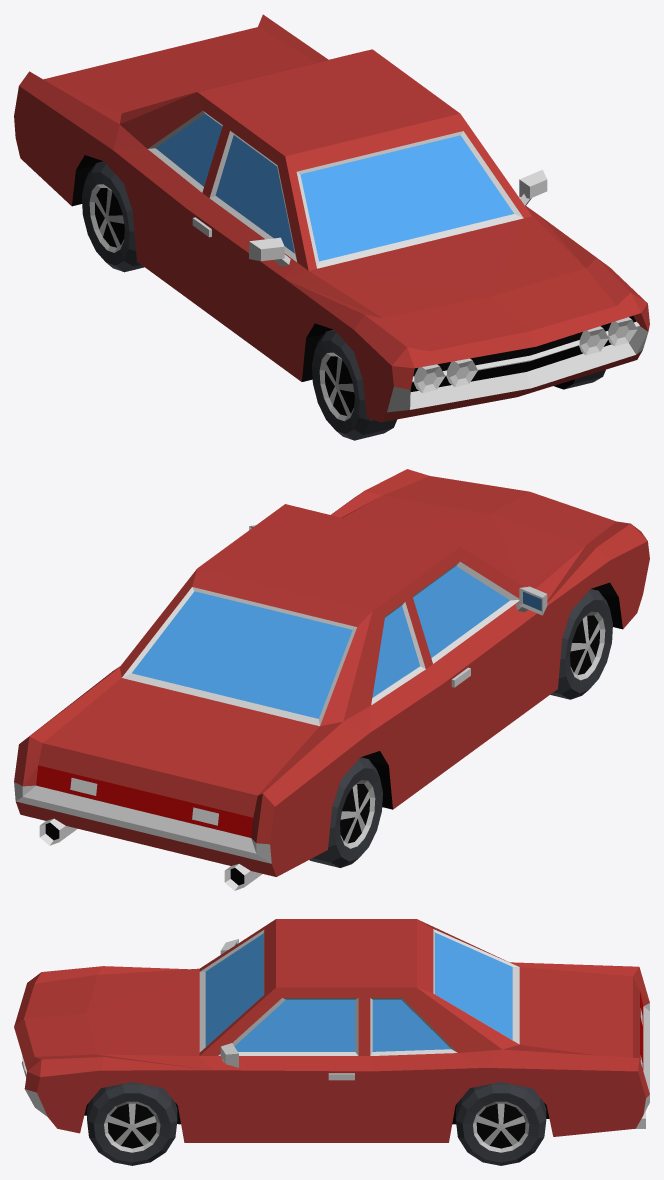
Rendered from Muscle_Coupe.fbx.
3 views of the same model, one above another, from view 1: azimuth 30°, elevation 25°; view 2: azimuth 150°, elevation 25°; view 3: azimuth 270°, elevation 25° (orthographic). The views are drawn at different scales.
Visible parts, largest first — view 1: Bodywork, Wheel Front Right, Wheel Rear Right; view 2: Bodywork, Wheel Rear Right, Wheel Front Right; view 3: Bodywork, Wheel Front Left, Wheel Rear Left.
Part boxes in pixels (<box>): Bodywork: <box>14,14,649,422</box>; Wheel Front Right: <box>312,329,397,440</box>; Wheel Rear Right: <box>82,161,144,272</box>; Bodywork: <box>14,469,649,890</box>; Wheel Rear Right: <box>309,757,382,867</box>; Wheel Front Right: <box>550,589,612,699</box>; Bodywork: <box>14,919,649,1142</box>; Wheel Front Left: <box>87,1082,177,1165</box>; Wheel Rear Left: <box>456,1082,546,1165</box>.
Bounding box in the file's own units: 206 × 139 × 483.
